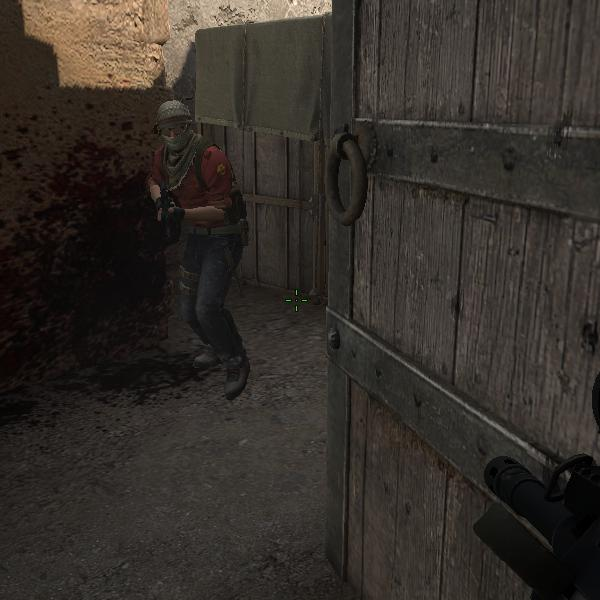t_body: (143, 97, 255, 404)
t_head: (151, 99, 198, 157)
